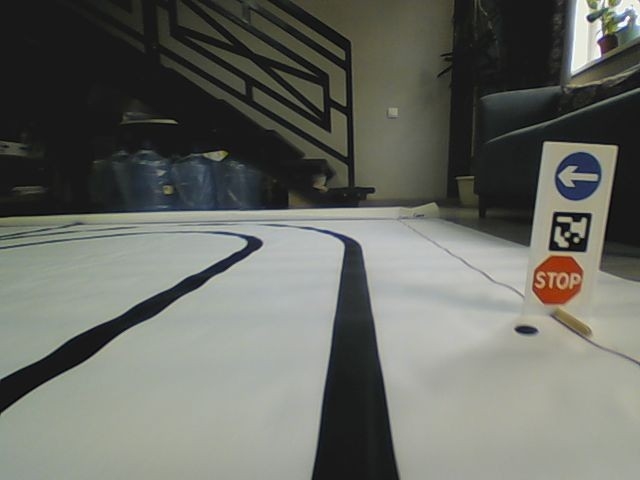Stop: (530, 254, 584, 304)
